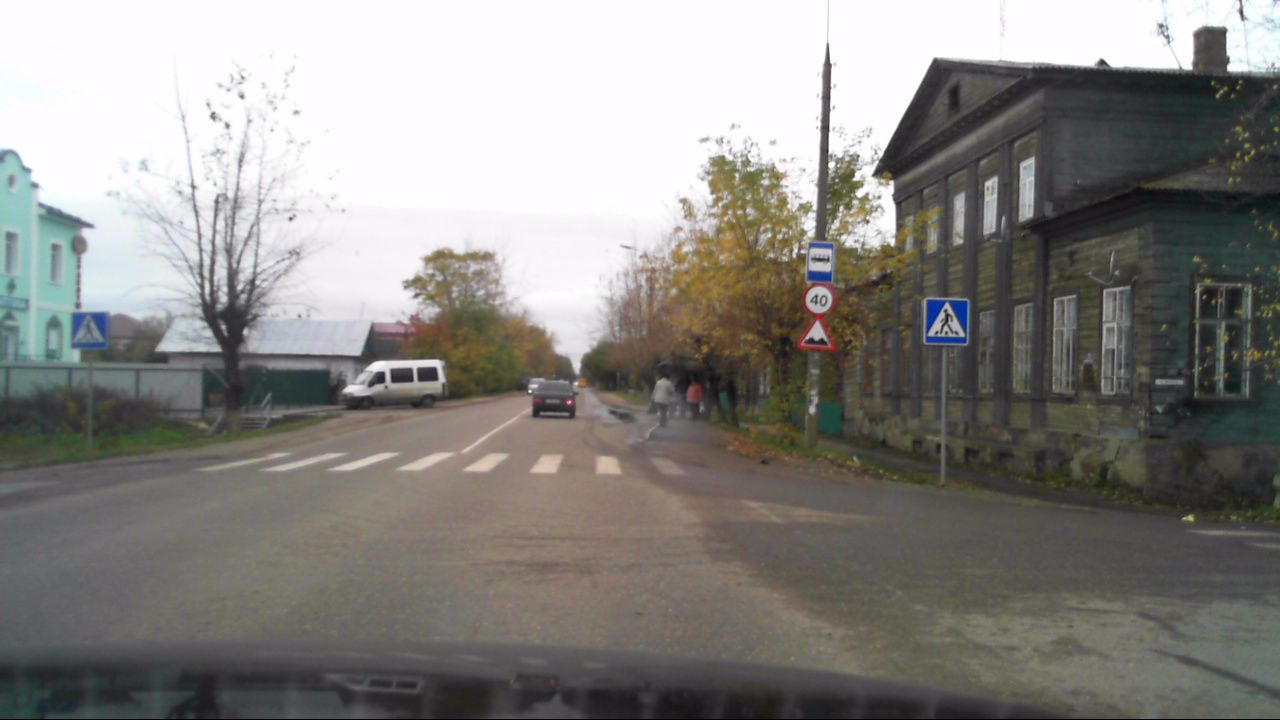speed_warning_40: (800, 284, 835, 316)
